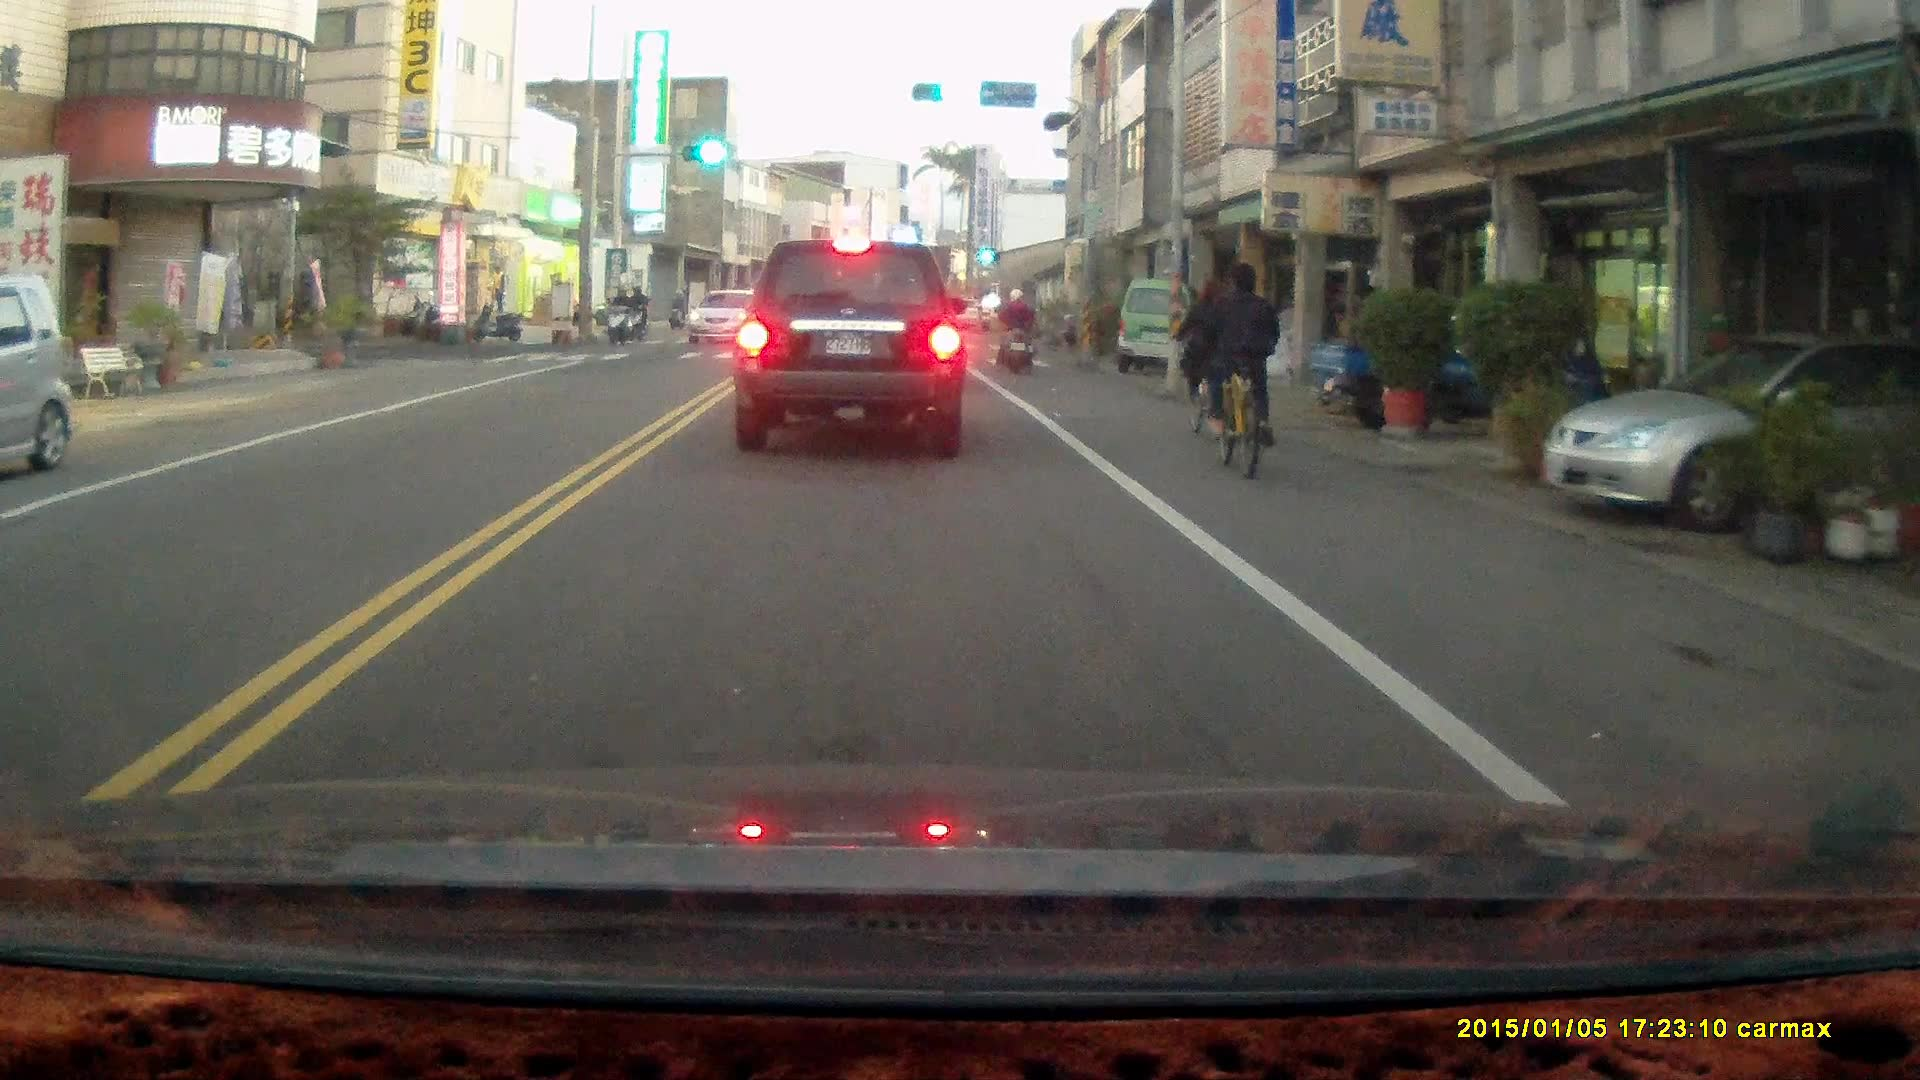pedestrian: (486, 261, 506, 313)
rider: (1199, 262, 1280, 477), (1174, 277, 1237, 445), (990, 285, 1041, 374), (601, 282, 635, 348), (622, 282, 648, 343), (665, 288, 685, 325)
vehicle: (1540, 334, 1920, 537), (738, 230, 968, 457), (1, 272, 79, 482), (1121, 278, 1215, 369), (681, 286, 777, 346)
